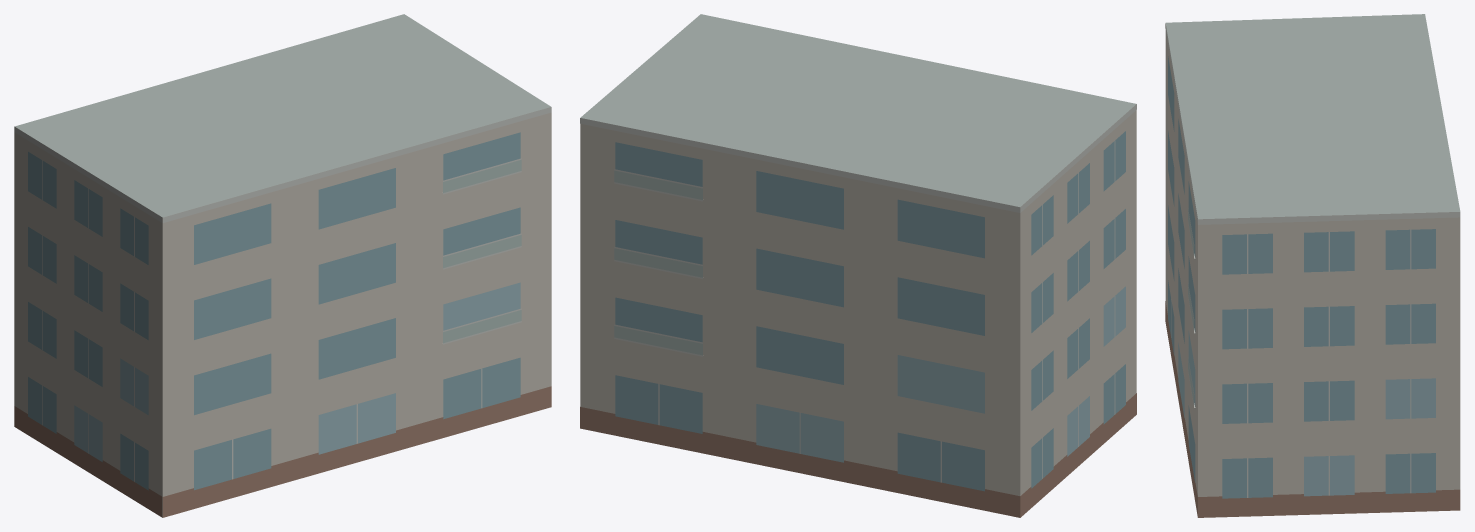
The model's file is survey-upis-33041313.glb.
The picture shows the model from 3 angles, left to right: view 1: azimuth 30°, elevation 25°; view 2: azimuth 150°, elevation 25°; view 3: azimuth 270°, elevation 25°; orthographic projection. The views are drawn at different scales.
Parts seen in each view (by area): view 1: survey-upis-33041313.tmp; view 2: survey-upis-33041313.tmp; view 3: survey-upis-33041313.tmp.
Boxes of the visible parts, bbox=[...] form: survey-upis-33041313.tmp: bbox=[14, 14, 551, 517]; survey-upis-33041313.tmp: bbox=[580, 14, 1136, 517]; survey-upis-33041313.tmp: bbox=[1165, 14, 1460, 517].
Size of the model in its own units: 19.17 by 13 by 11.65.
